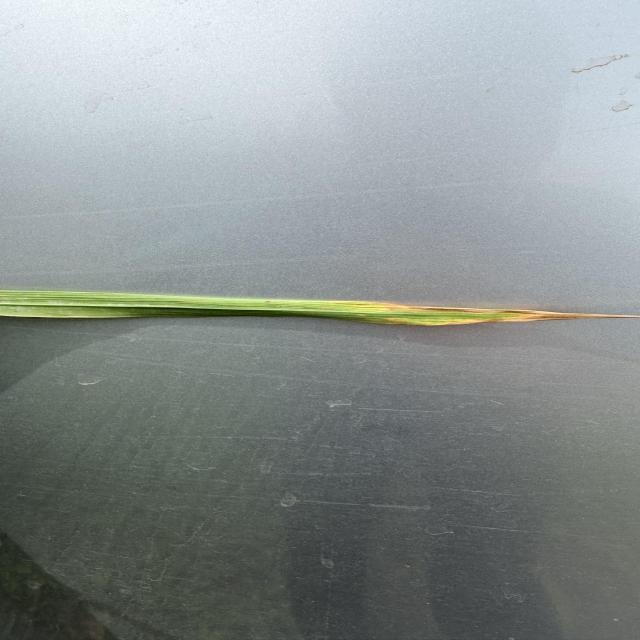Chay bia la: (372, 302, 637, 326)
